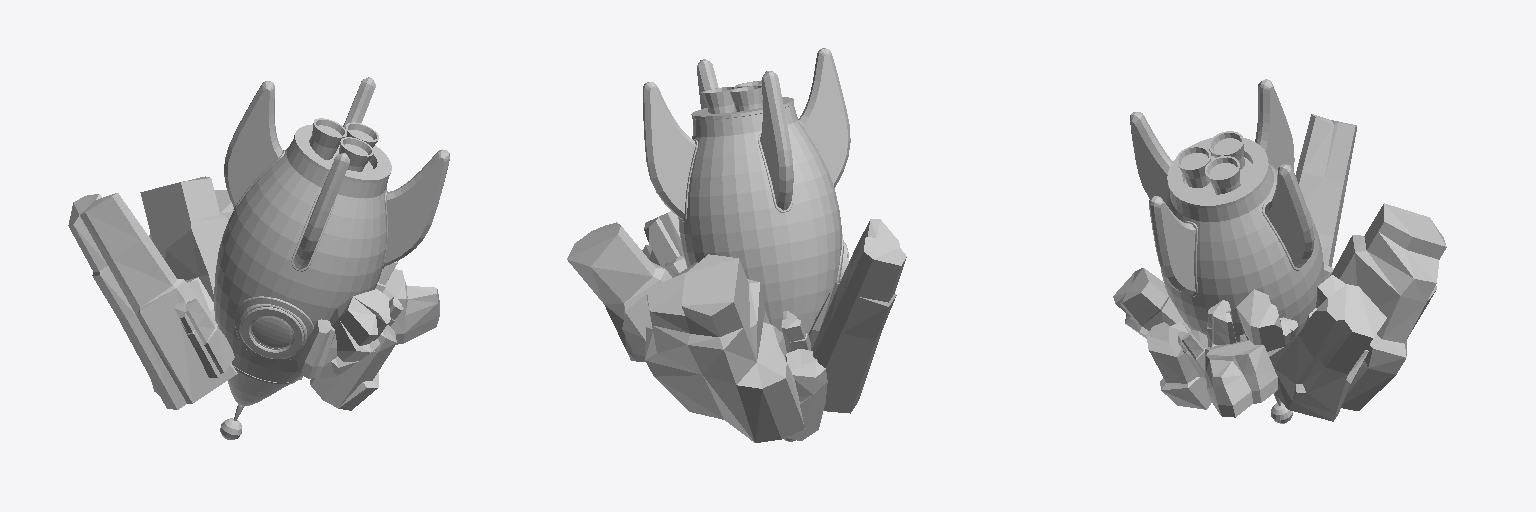
The model's file is spaceship.obj.
The picture shows the model from 3 angles: view 1: azimuth 30°, elevation 25°; view 2: azimuth 150°, elevation 25°; view 3: azimuth 270°, elevation 25°; orthographic projection.
Parts seen in each view (by area): view 1: Object_2; view 2: Object_2; view 3: Object_2.
Part boxes in pixels (x1,y1,x2,y2): Object_2: (68, 77, 449, 439); Object_2: (567, 48, 906, 442); Object_2: (1113, 79, 1446, 423).
Bounding box in the file's own units: 9.47 × 10.04 × 8.52.